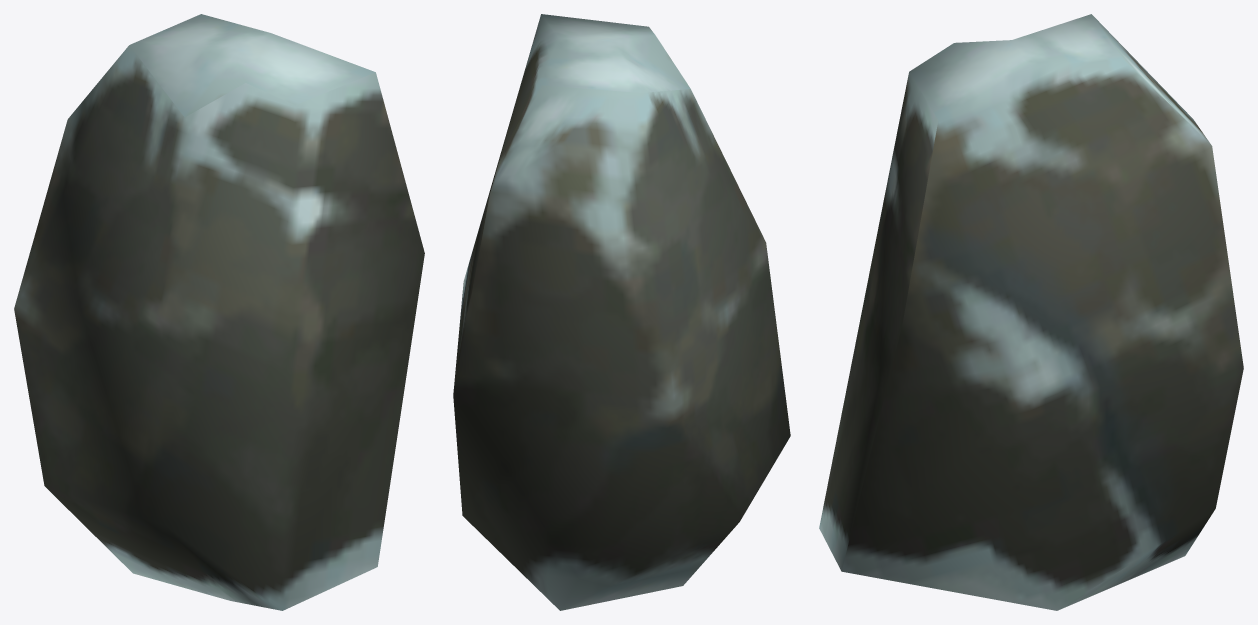
3 views of the same model, side by side, from view 1: azimuth 30°, elevation 25°; view 2: azimuth 150°, elevation 25°; view 3: azimuth 270°, elevation 25° (orthographic). The views are drawn at different scales.
Parts seen in each view (by area): view 1: X_wj5; view 2: X_wj5; view 3: X_wj5.
Part boxes in pixels (bbox=[...]): X_wj5: bbox=[14, 14, 424, 610]; X_wj5: bbox=[453, 14, 790, 610]; X_wj5: bbox=[819, 14, 1243, 610].
Bounding box in the file's own units: 64.93 × 106 × 75.5.
1 material, 1 textured.
